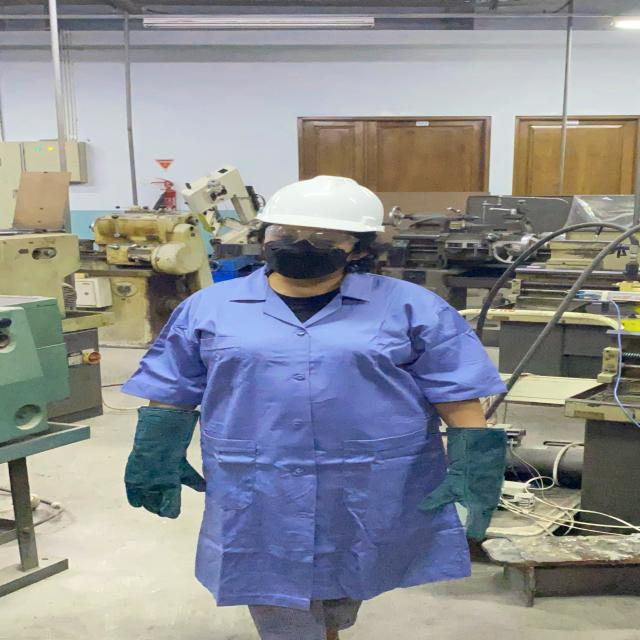face_mask: (255, 226, 359, 279)
glasses: (256, 223, 365, 250)
hand_glove: (404, 467, 524, 543), (113, 445, 233, 520)
head_helmet: (252, 169, 390, 235)
person: (92, 172, 504, 640)
